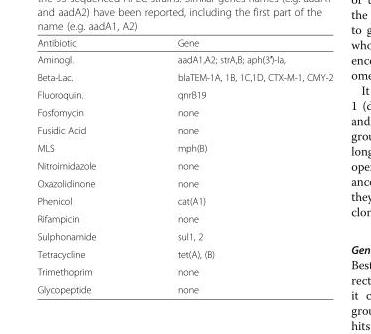table: (36, 36, 332, 294)
table column: (136, 36, 332, 294), (36, 36, 136, 294)
table column header: (36, 36, 332, 50)
table row: (36, 67, 332, 85), (36, 85, 332, 103), (36, 103, 332, 121), (36, 138, 332, 156), (36, 156, 332, 174), (36, 191, 332, 209), (36, 209, 332, 227), (36, 227, 332, 245), (36, 262, 332, 280), (36, 50, 332, 67), (36, 121, 332, 138), (36, 174, 332, 191), (36, 245, 332, 262), (36, 36, 332, 50), (36, 280, 332, 294)
